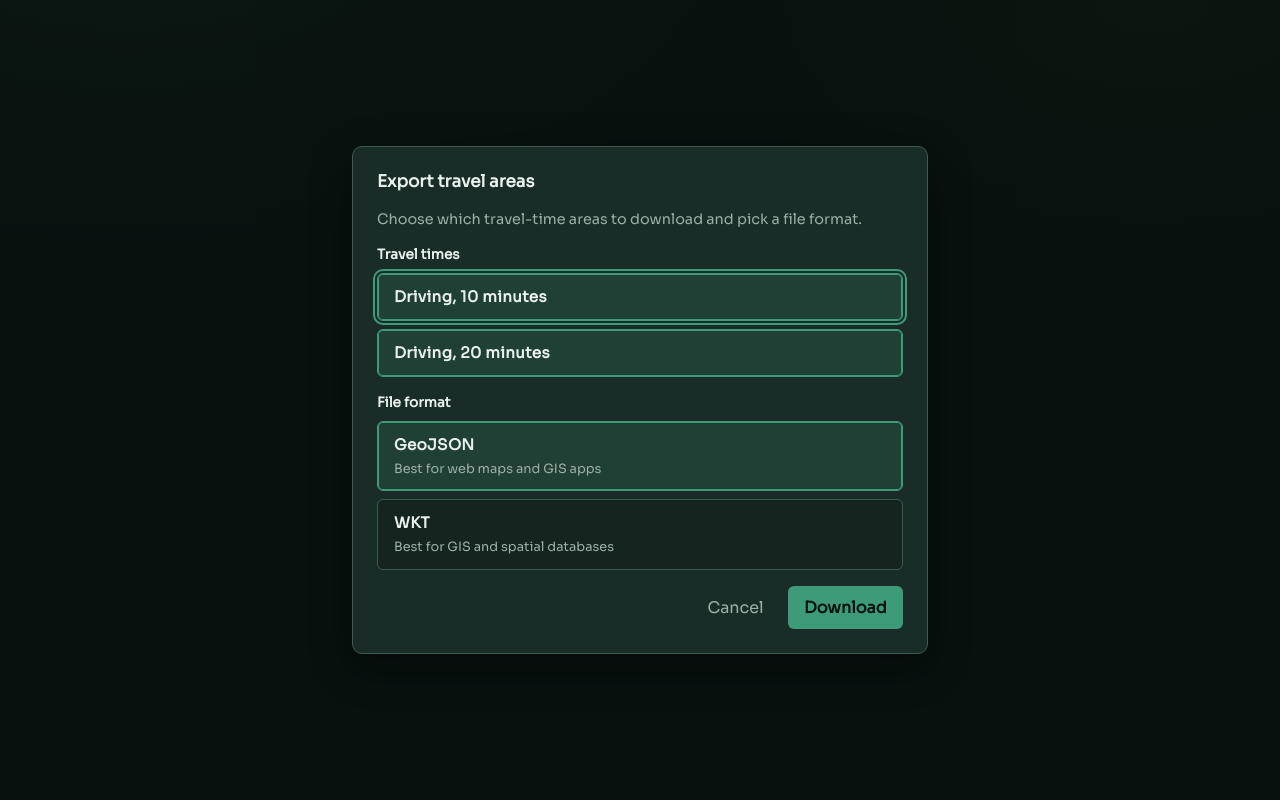
Test: ExportContoursModal › shows an inline error and keeps the modal open when export fails
Click the button "Download" at (845, 607), box [788,586,903,629]
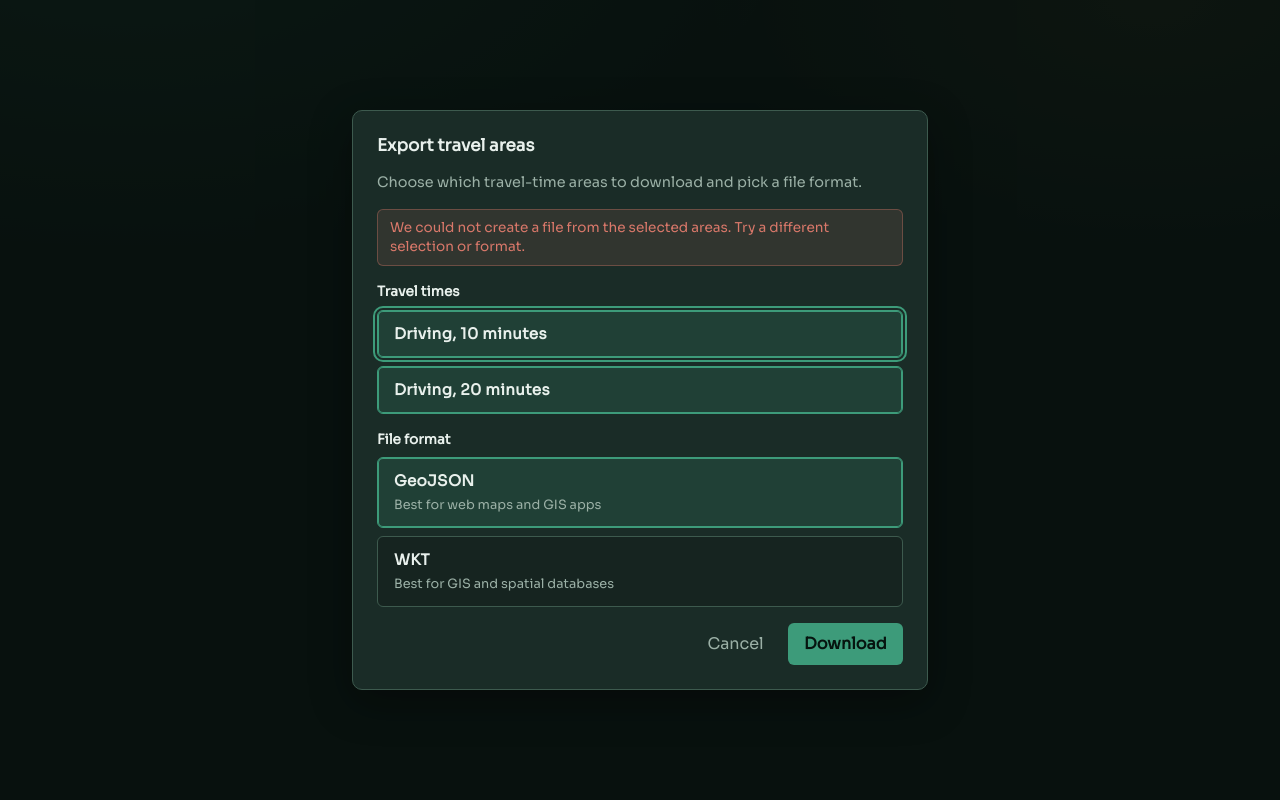
Expected: the text "We could not create a file from the selected areas. Try a different selection or format." is shown, [390,219,829,255]
